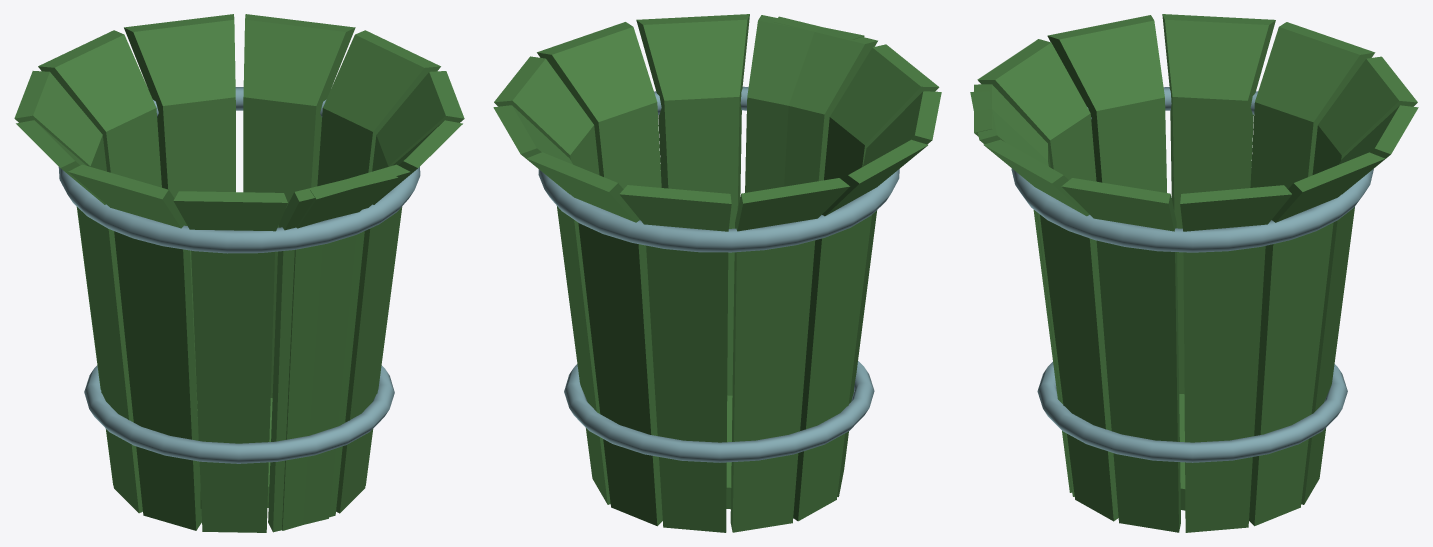
Rendered from Dumpster.fbx.
3 renders of one model, left to right at view 1: azimuth 30°, elevation 25°; view 2: azimuth 150°, elevation 25°; view 3: azimuth 270°, elevation 25°, orthographic.
Visible parts, largest first — view 1: Dumpster; view 2: Dumpster; view 3: Dumpster.
Boxes of the visible parts, x1,y1,x2,y2 form: Dumpster: (14,14,464,532); Dumpster: (493,14,941,532); Dumpster: (970,14,1418,532).
Bounding box in the file's own units: 3.12 × 3.11 × 2.86.
